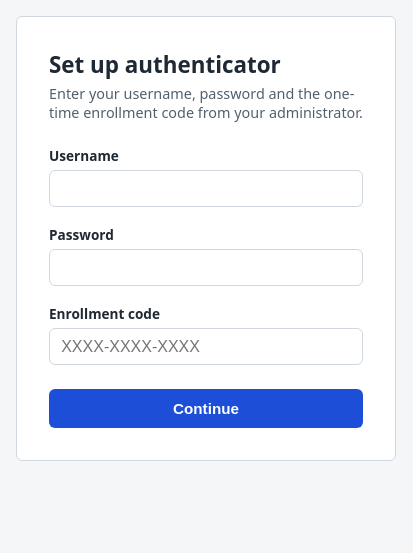
it: EnrollPage (Phase 7A) › shows a generic message when the network fails
Type "alice" into the field labelled "Username" at (206, 189), box [49,170,363,207]
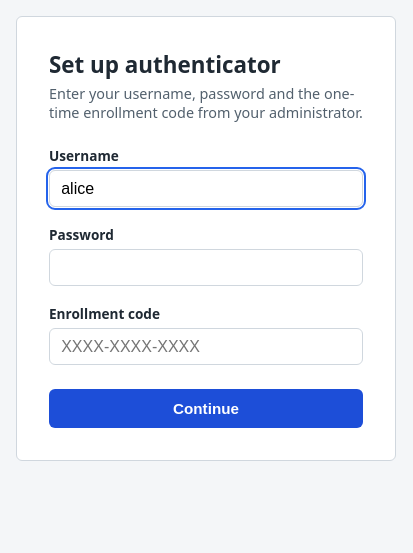
Type "Pa55word!pa55" into the password field labelled "Password" at (206, 268), box [49,249,363,286]
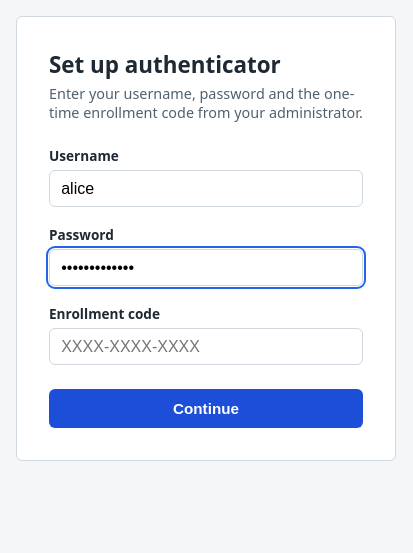
Type "ABCD-EFGH-JKMN" into the field labelled "Enrollment code" at (206, 347), box [49,328,363,365]
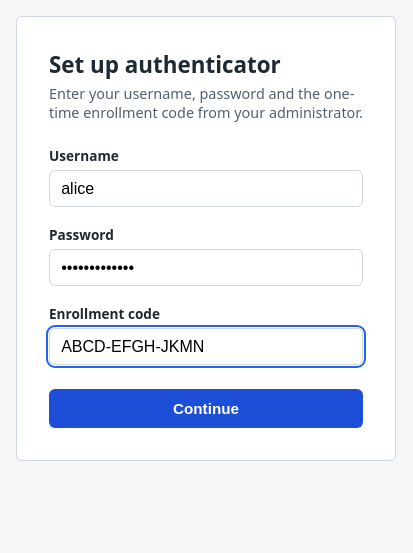
Click the button "Continue" at (206, 408), box [49,389,363,428]
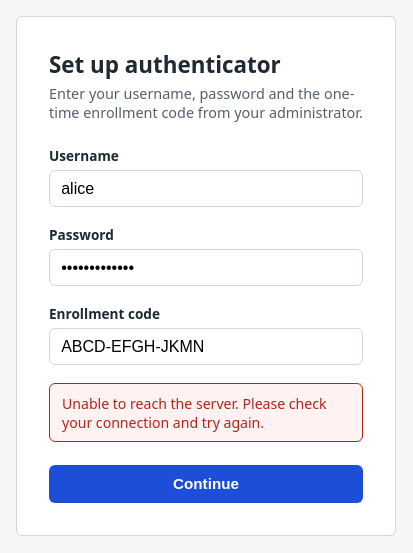
Result: the message "Unable to reach the server. Please check your connection and try again." is shown at [49,383,363,442]
